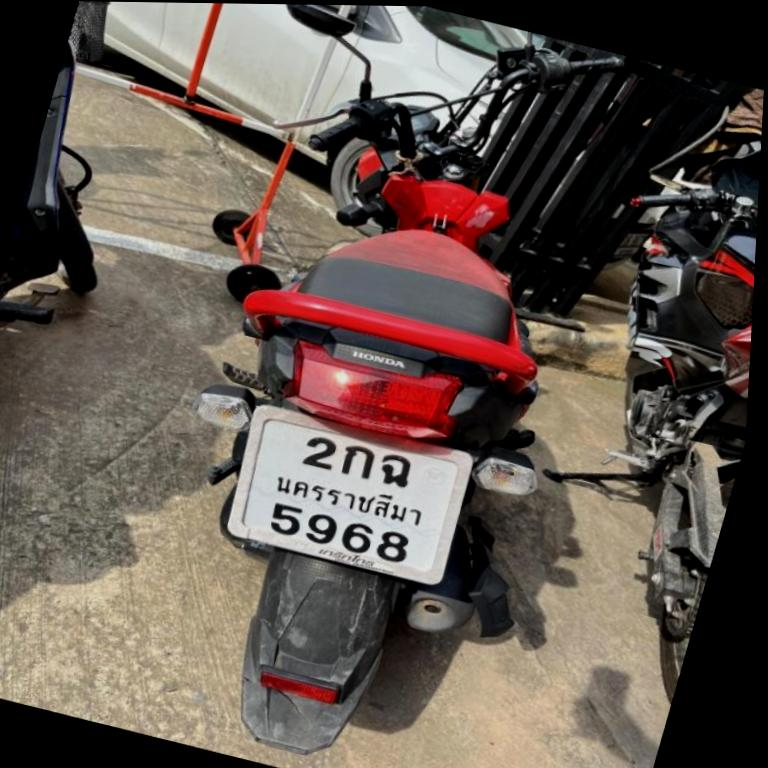license plate: (231, 407, 471, 582)
